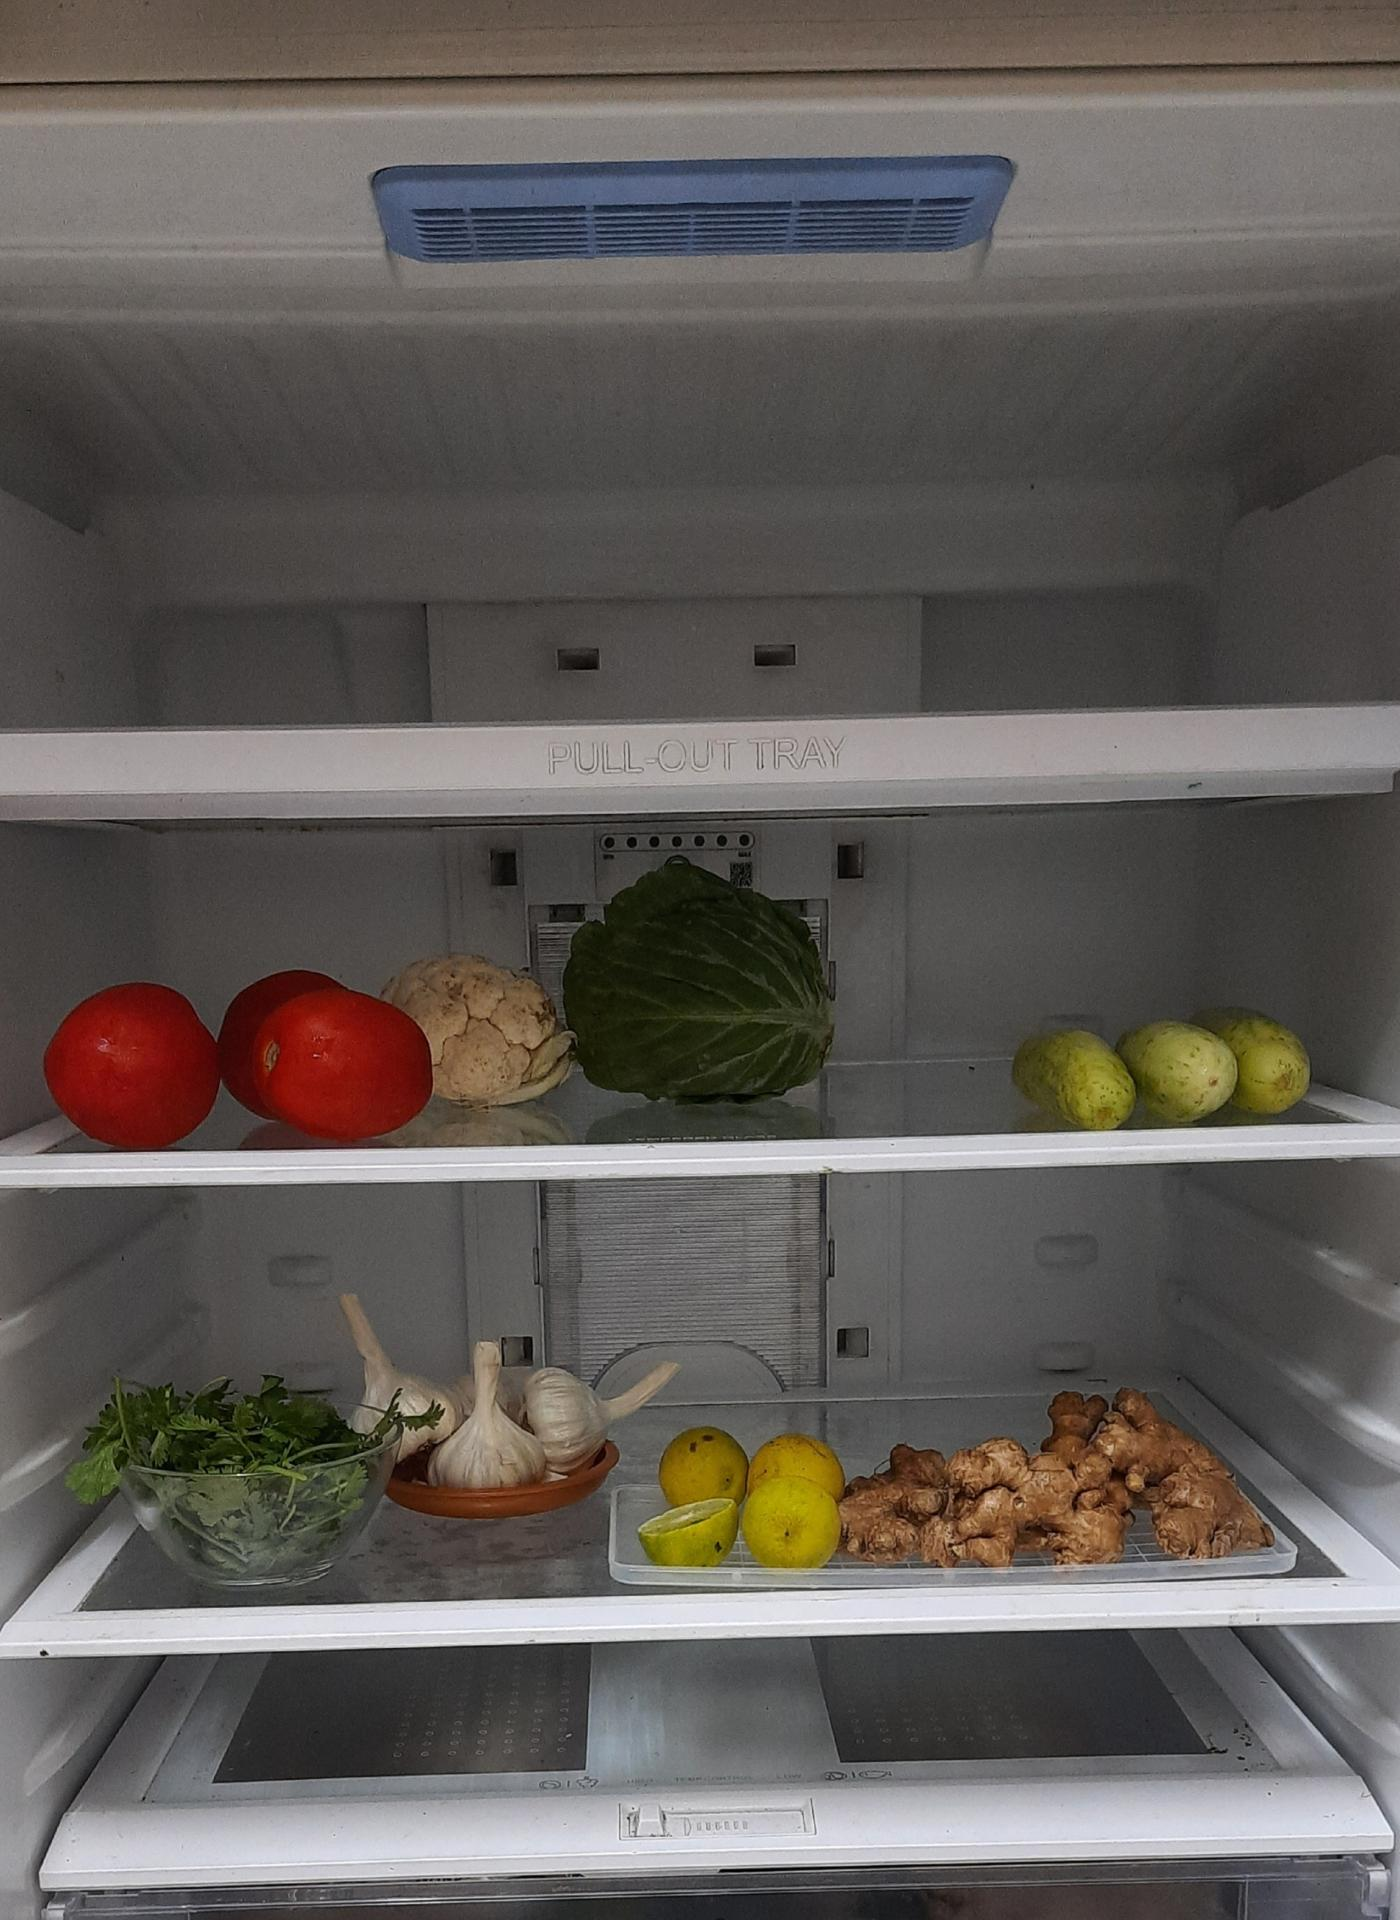carrots: (848, 1365, 1278, 1559)
coriander: (118, 1380, 386, 1571)
cucumber: (1009, 1014, 1321, 1127)
garlic: (389, 1331, 622, 1495)
lemon: (643, 1421, 848, 1567)
tomato: (45, 964, 426, 1139)
